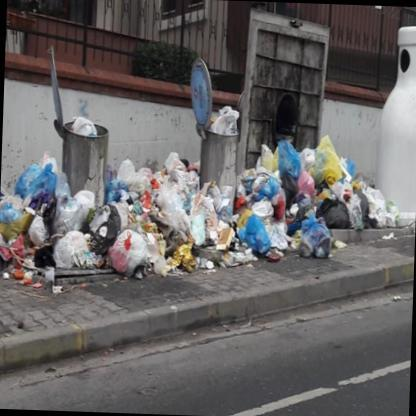Garbage: (126, 170, 184, 251), (344, 174, 397, 232), (76, 231, 136, 280), (18, 158, 62, 216), (5, 252, 57, 300), (141, 186, 189, 225), (45, 197, 82, 238), (162, 146, 198, 184), (182, 232, 218, 270), (240, 212, 270, 257), (274, 139, 308, 177), (160, 177, 188, 222), (216, 242, 254, 272), (258, 142, 287, 178), (301, 222, 333, 254), (90, 204, 114, 246), (262, 220, 288, 256), (124, 158, 148, 194), (316, 152, 344, 180), (0, 193, 20, 231), (215, 106, 240, 133), (72, 118, 99, 136)
